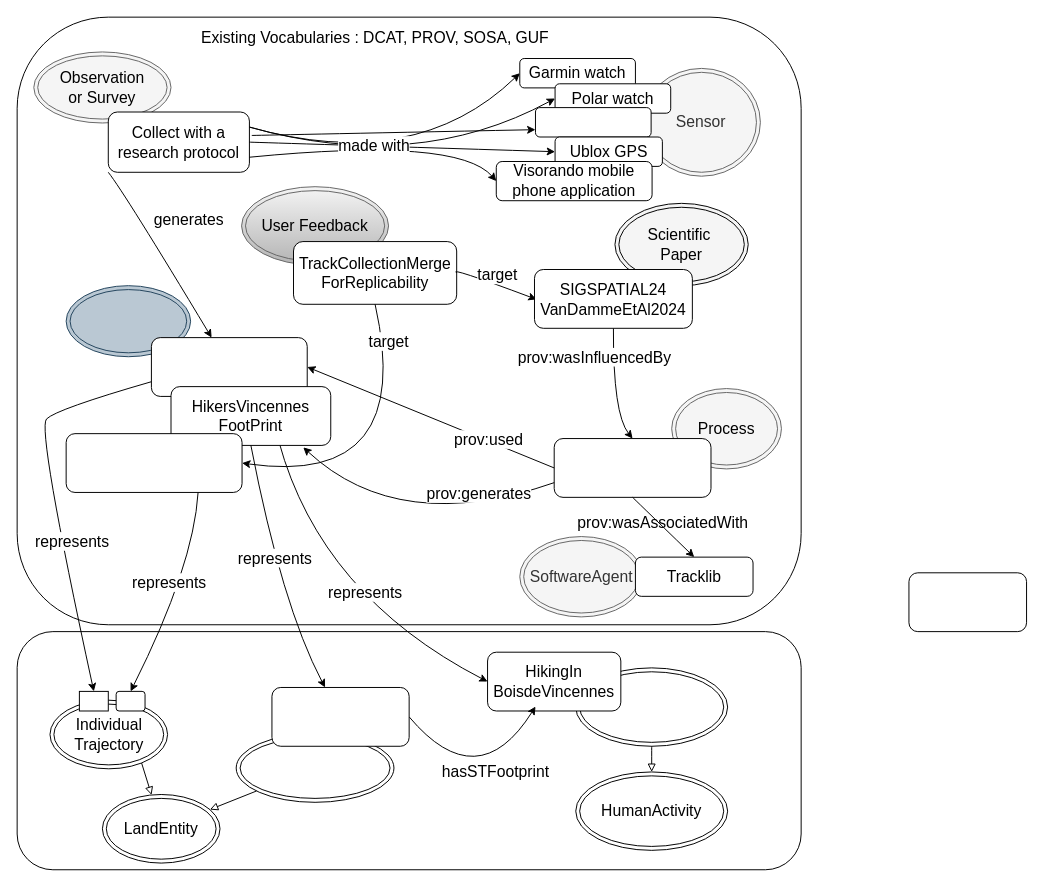
This 1044x887 diagram has some shape labels left out. Each missing label, with the centre of its shape:
"Dataset" belongs at (128,321).
"hikers footprint" belongs at (967,602).
"HikersFootprint BoisVincennes" belongs at (340,716).
"Hiking" belongs at (651,706).
"Keymaza GPS" belongs at (592,122).
"OVTracks MontBlancBauges2024" belongs at (153,462).
"Population Footprint" belongs at (314,767).
"PopulationFootprint FromTracksCollection" belongs at (632,467).
"TracksMultiSensors VincennesForest" belongs at (228,366).
